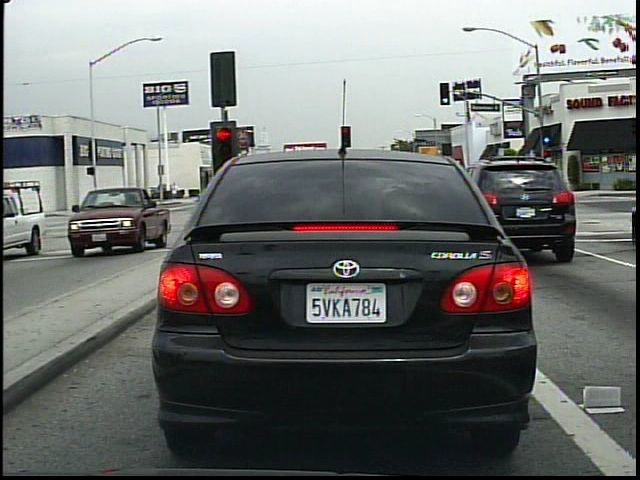person: (169, 180, 181, 204)
